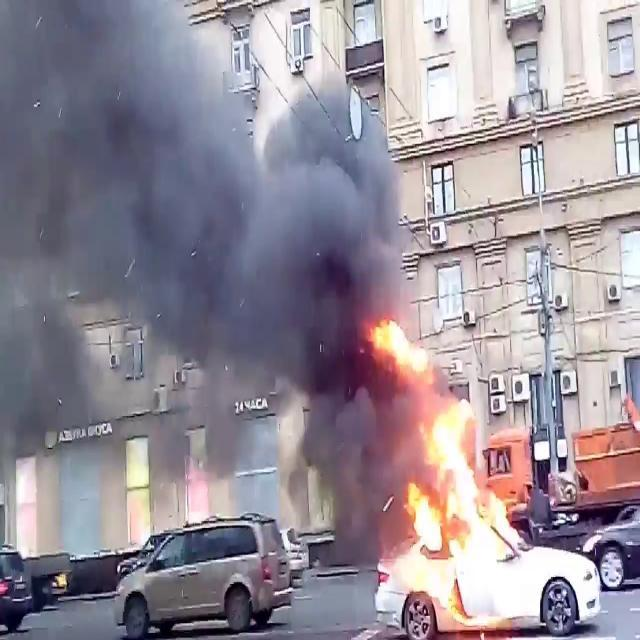Fire: (399, 388, 519, 566), (368, 311, 434, 384)
Smoke: (0, 1, 424, 526)
